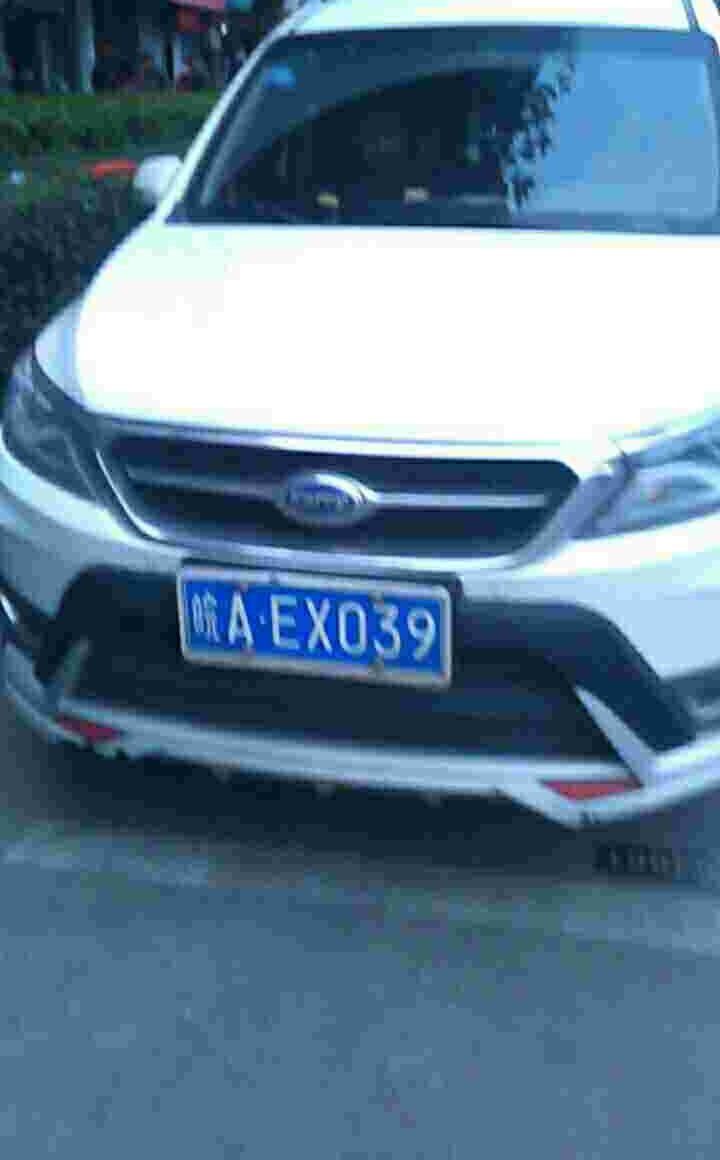license_plate: (172, 571, 444, 681)
